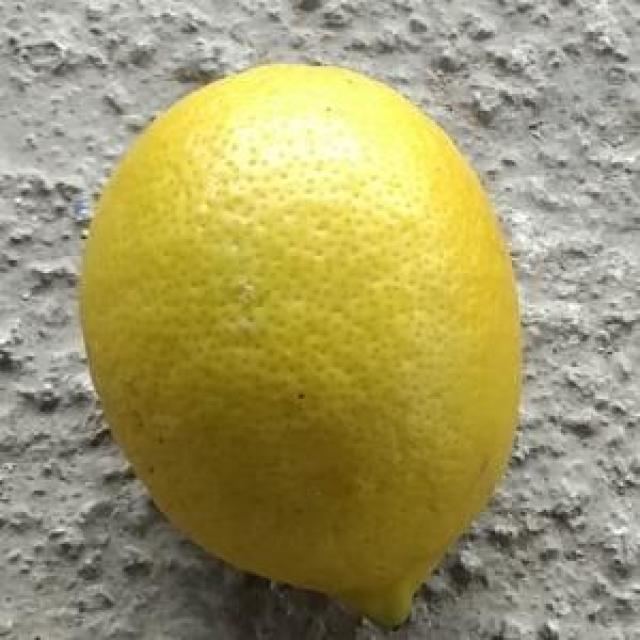lemon: (74, 56, 527, 634)
